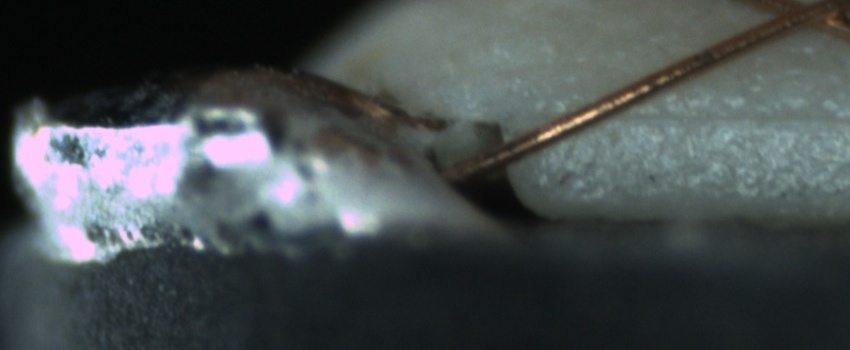CL: (752, 2, 837, 32)
DL: (575, 80, 846, 148)
